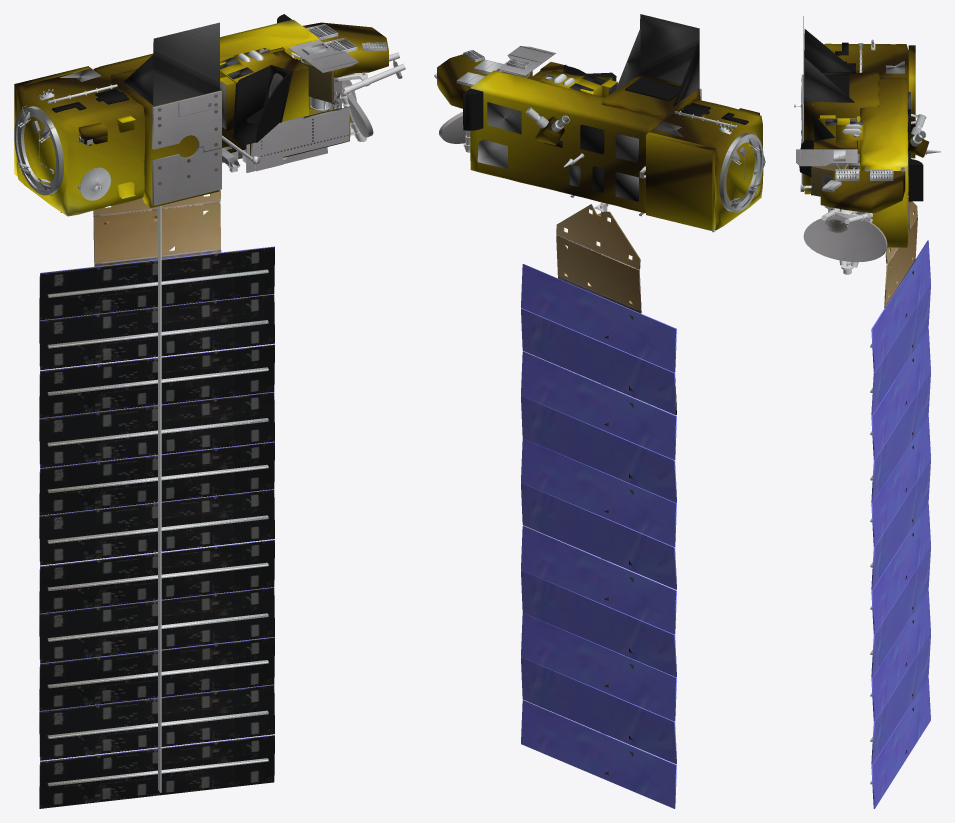
File: Aura.glb
The picture shows the model from 3 angles, left to right: view 1: azimuth 30°, elevation 25°; view 2: azimuth 150°, elevation 25°; view 3: azimuth 270°, elevation 25°; orthographic projection. The views are drawn at different scales.
Parts seen in each view (by area): view 1: tex_01b, foil_gold, tex_01c, tex_01, foil_silver, black_krinkle, shiny_panel, tex_01d; view 2: shiny_panel, foil_gold, foil_silver, tex_01b, black_krinkle, tex_01, tex_01c; view 3: shiny_panel, foil_gold, tex_01, foil_silver, black_krinkle, tex_01b, tex_01d, tex_01c.
Part boxes in pixels (box(x1,y1,x2,y2)): tex_01b: box(39, 91, 339, 808); foil_gold: box(14, 19, 388, 216); tex_01c: box(14, 81, 238, 212); tex_01: box(222, 24, 402, 172); foil_silver: box(60, 22, 253, 106); black_krinkle: box(52, 14, 293, 145); shiny_panel: box(39, 246, 274, 808); tex_01d: box(290, 52, 405, 141); shiny_panel: box(521, 264, 676, 808); foil_gold: box(437, 54, 763, 230); foil_silver: box(477, 14, 699, 201); tex_01b: box(556, 203, 676, 775); black_krinkle: box(463, 65, 748, 192); tex_01: box(439, 46, 574, 195); tex_01c: box(559, 83, 765, 232); shiny_panel: box(871, 240, 930, 808); foil_gold: box(804, 43, 929, 247); tex_01: box(796, 115, 926, 262); foil_silver: box(803, 16, 910, 232); black_krinkle: box(799, 42, 923, 201); tex_01b: box(856, 197, 917, 784); tex_01d: box(813, 163, 872, 274); tex_01c: box(794, 39, 940, 191).
Size of the model in its own units: 8.73 by 18.7 by 3.43.
6 materials, 4 textured.
